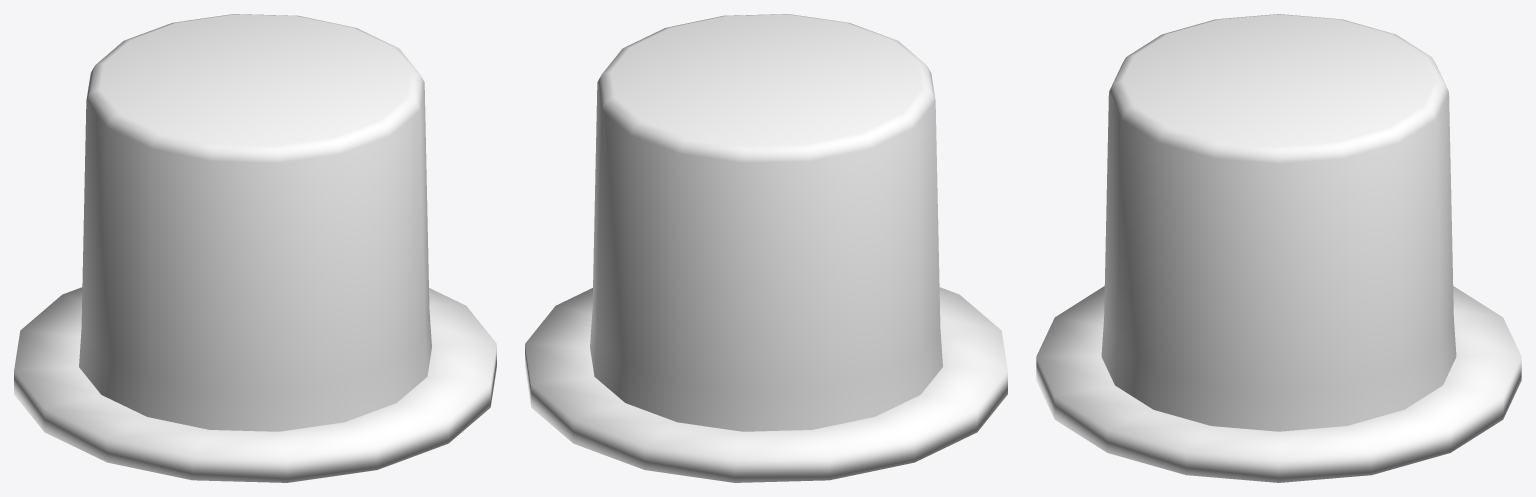
Rendered from top_hat.fbx.
3 renders of one model, left to right at view 1: azimuth 30°, elevation 25°; view 2: azimuth 150°, elevation 25°; view 3: azimuth 270°, elevation 25°, orthographic.
Parts seen in each view (by area): view 1: Cylinder; view 2: Cylinder; view 3: Cylinder.
Boxes of the visible parts, <box> form: Cylinder: <box>14,14,496,482</box>; Cylinder: <box>525,14,1007,482</box>; Cylinder: <box>1036,14,1521,482</box>.
Bounding box in the file's own units: 110 × 74.97 × 110.
